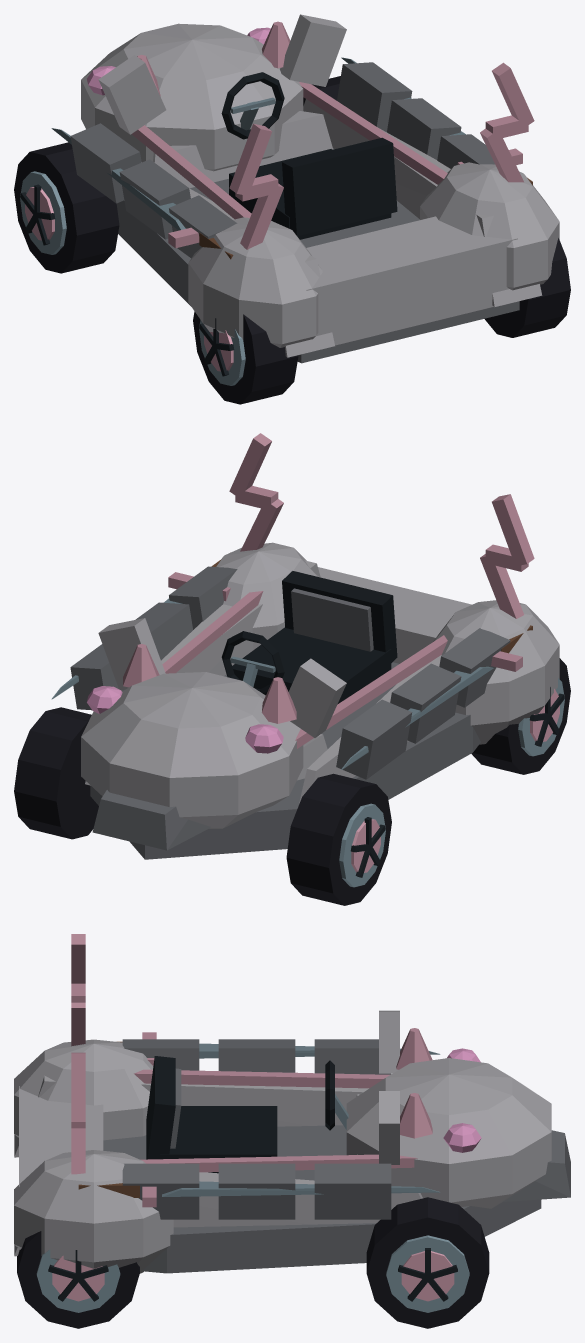
File: kart.glb
The picture shows the model from 3 angles, top to bottom: view 1: azimuth 30°, elevation 25°; view 2: azimuth 150°, elevation 25°; view 3: azimuth 270°, elevation 25°; orthographic projection. The views are drawn at different scales.
Parts seen in each view (by area): view 1: identity-beast-beast-sculpted-prow-and-haunches, identity-beast-motif-armor, identity-beast-driver-cockpit, wheel-front-left, identity-beast-motif-electric, wheel-rear-left, wheel-rear-right, identity-beast-motif-swords; view 2: identity-beast-beast-sculpted-prow-and-haunches, identity-beast-motif-armor, identity-beast-driver-cockpit, wheel-front-left, wheel-front-right, identity-beast-motif-electric, wheel-rear-left, identity-beast-motif-swords; view 3: identity-beast-beast-sculpted-prow-and-haunches, identity-beast-motif-armor, wheel-front-right, identity-beast-driver-cockpit, wheel-rear-right, identity-beast-motif-electric, identity-beast-motif-swords.
Part boxes in pixels (bbox=[...]): identity-beast-beast-sculpted-prow-and-haunches: bbox=[81, 14, 559, 363]; identity-beast-motif-armor: bbox=[70, 62, 494, 258]; identity-beast-driver-cockpit: bbox=[221, 72, 397, 239]; wheel-front-left: bbox=[14, 142, 119, 273]; identity-beast-motif-electric: bbox=[229, 62, 534, 249]; wheel-rear-left: bbox=[193, 311, 298, 404]; wheel-rear-right: bbox=[484, 238, 570, 337]; identity-beast-motif-swords: bbox=[51, 57, 532, 259]; identity-beast-beast-sculpted-prow-and-haunches: bbox=[81, 542, 559, 859]; identity-beast-motif-armor: bbox=[70, 566, 510, 779]; identity-beast-driver-cockpit: bbox=[221, 571, 397, 704]; wheel-front-left: bbox=[286, 773, 391, 905]; wheel-front-right: bbox=[14, 707, 98, 839]; identity-beast-motif-electric: bbox=[229, 433, 534, 618]; wheel-rear-left: bbox=[471, 658, 570, 774]; identity-beast-motif-swords: bbox=[51, 552, 532, 769]; identity-beast-beast-sculpted-prow-and-haunches: bbox=[14, 1010, 570, 1273]; identity-beast-motif-armor: bbox=[122, 1039, 391, 1219]; wheel-front-right: bbox=[366, 1197, 489, 1328]; identity-beast-driver-cockpit: bbox=[146, 1056, 348, 1173]; wheel-rear-right: bbox=[17, 1231, 139, 1328]; identity-beast-motif-electric: bbox=[71, 934, 85, 1174]; identity-beast-motif-swords: bbox=[78, 1032, 440, 1207].
Size of the model in its own units: 2.04 by 1.49 by 2.9.
